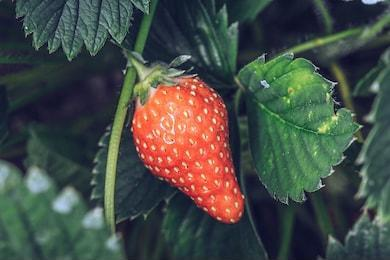Fresa: (123, 64, 253, 227)
